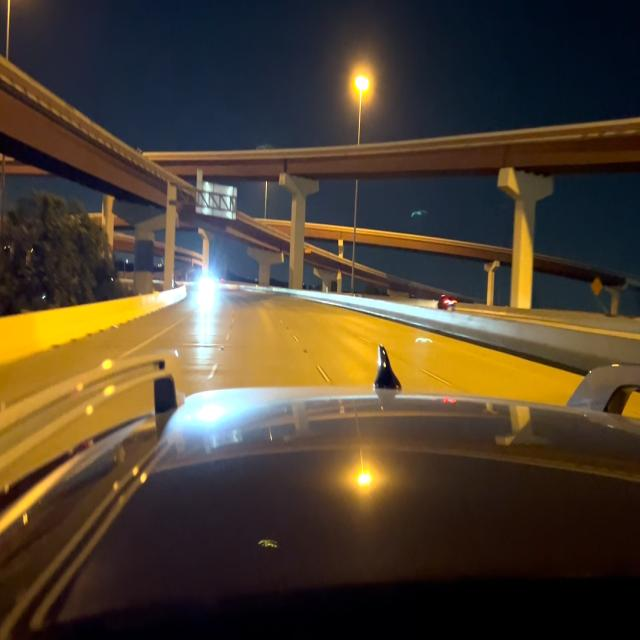back-of-sign: (196, 183, 236, 220)
